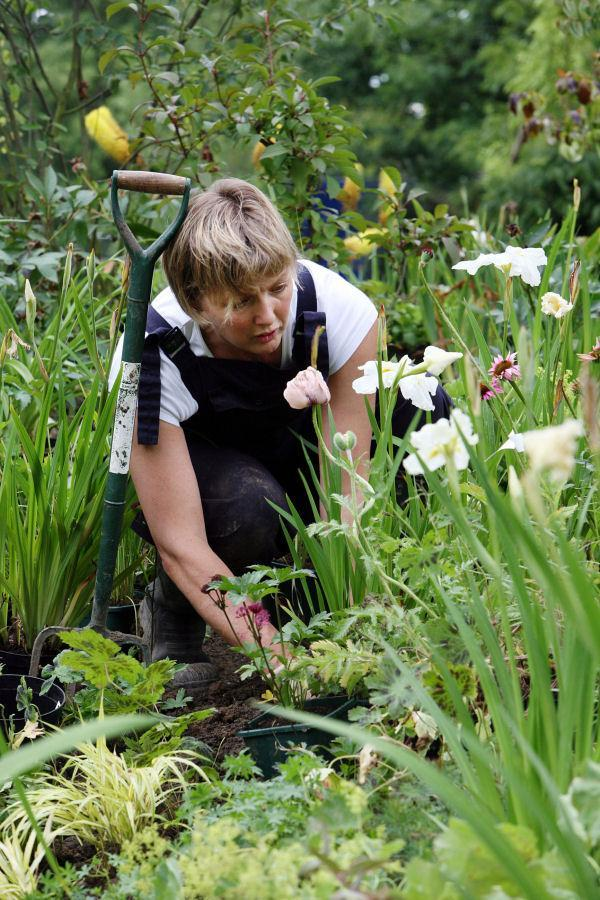person: (113, 165, 457, 660)
